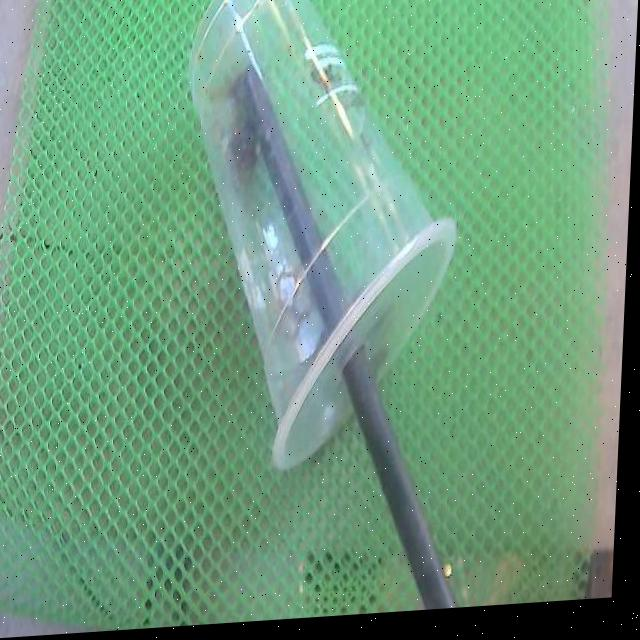cup: (193, 0, 458, 471)
